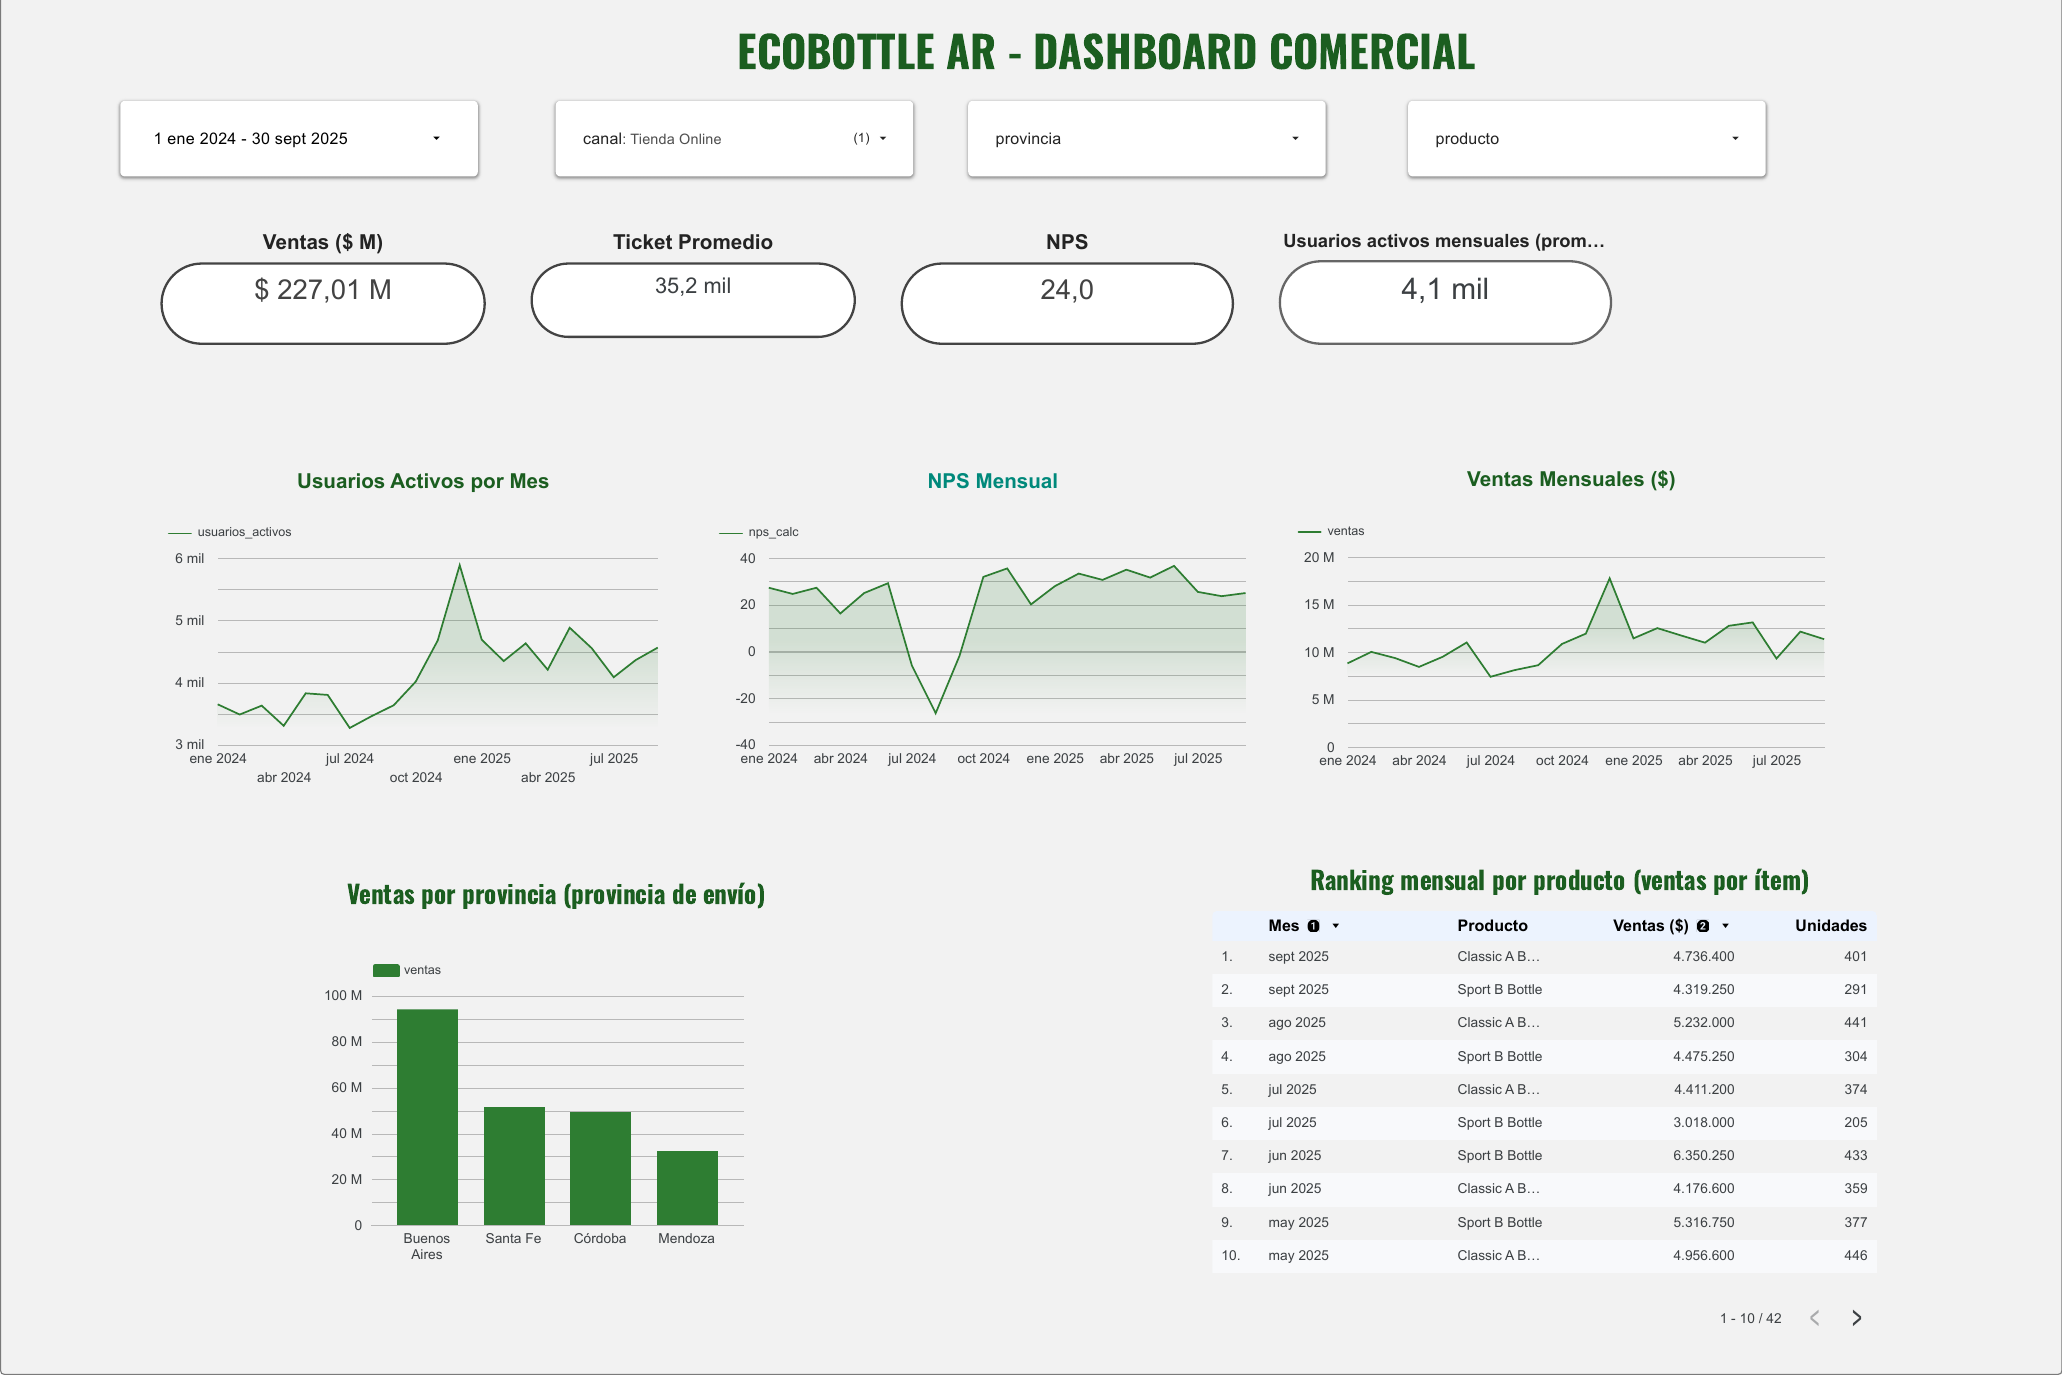

The dashboard page shown, as its layout file describes it:
{"tool":"powerbi","page":{"name":"Página 1","canvas":[1920,1080],"ordinal":0},"visuals":[{"type":"cardVisual","title":"VENTAS","fields":{"Data":["fact_sales_order.Ventas ($M)"]},"box":[42.7,167.1,337.9,128.1],"z":1},{"type":"lineChart","title":"Ventas por Mes","fields":{"Category":["dim_date.year_month"],"Y":["fact_sales_order.Ventas"]},"box":[42.7,363.9,648,286],"z":2},{"type":"barChart","title":"Ventas por Provincia","fields":{"Category":["dim_province.name"],"Y":["fact_sales_order.Ventas"]},"box":[729.7,363.9,570.1,286],"z":3},{"type":"lineChart","title":"Evolución del NPS","fields":{"Category":["dim_date.year_month"],"Y":["fact_nps.NPS"]},"box":[42.7,714.9,636.9,258.1],"z":4},{"type":"lineChart","title":"Usuarios activos por mes","fields":{"Category":["dim_date.year_month"],"Y":["fact_web_session.Usuarios Activos"]},"box":[727.9,714.9,570.1,273],"z":5},{"type":"cardVisual","fields":{"Data":["fact_sales_order.Ticket Promedio ($K)"]},"box":[486.5,167.1,337.9,128.1],"z":6},{"type":"cardVisual","fields":{"Data":["fact_web_session.Usuarios Activos (K)"]},"box":[960,167.1,337.9,128.1],"z":7},{"type":"cardVisual","fields":{"Data":["fact_nps.NPS (texto)"]},"box":[1413.1,167.1,337.9,128.1],"z":8},{"type":"tableEx","title":"Ranking Mensual por Producto","fields":{"Values":["dim_date.year_month","dim_product.name","fact_sales_item.Ventas Items","fact_sales_item.Unidades Vendidas","fact_sales_item.Ranking Producto"]},"box":[1318.4,363.9,583.1,642.5],"z":10},{"type":"slicer","fields":{"Values":["dim_province.name"]},"box":[621.3,25.5,209.8,65],"z":11},{"type":"slicer","fields":{"Values":["dim_date.full_date"]},"box":[857.4,25.5,273,154],"z":12},{"type":"slicer","fields":{"Values":["dim_channel.name"]},"box":[1129.8,29.8,323.1,76.1],"z":13},{"type":"slicer","fields":{"Values":["dim_product.name"]},"box":[1519.1,25.5,337.9,78],"z":14}]}

Visuals, with their boxes on the page's 1920x1080 design canvas (x1, y1, x2, y2). These are canvas units, not pixel positions in the 2063x1375 screenshot, which may show the page scaled, cropped or inside an application window:
"VENTAS" cardVisual: rect(43, 167, 381, 295)
"Ventas por Mes" lineChart: rect(43, 364, 691, 650)
"Ventas por Provincia" barChart: rect(730, 364, 1300, 650)
"Evolución del NPS" lineChart: rect(43, 715, 680, 973)
"Usuarios activos por mes" lineChart: rect(728, 715, 1298, 988)
cardVisual - fact_sales_order.Ticket Promedio ($K): rect(486, 167, 824, 295)
cardVisual - fact_web_session.Usuarios Activos (K): rect(960, 167, 1298, 295)
cardVisual - fact_nps.NPS (texto): rect(1413, 167, 1751, 295)
"Ranking Mensual por Producto" tableEx: rect(1318, 364, 1902, 1006)
slicer - dim_province.name: rect(621, 26, 831, 90)
slicer - dim_date.full_date: rect(857, 26, 1130, 180)
slicer - dim_channel.name: rect(1130, 30, 1453, 106)
slicer - dim_product.name: rect(1519, 26, 1857, 104)
